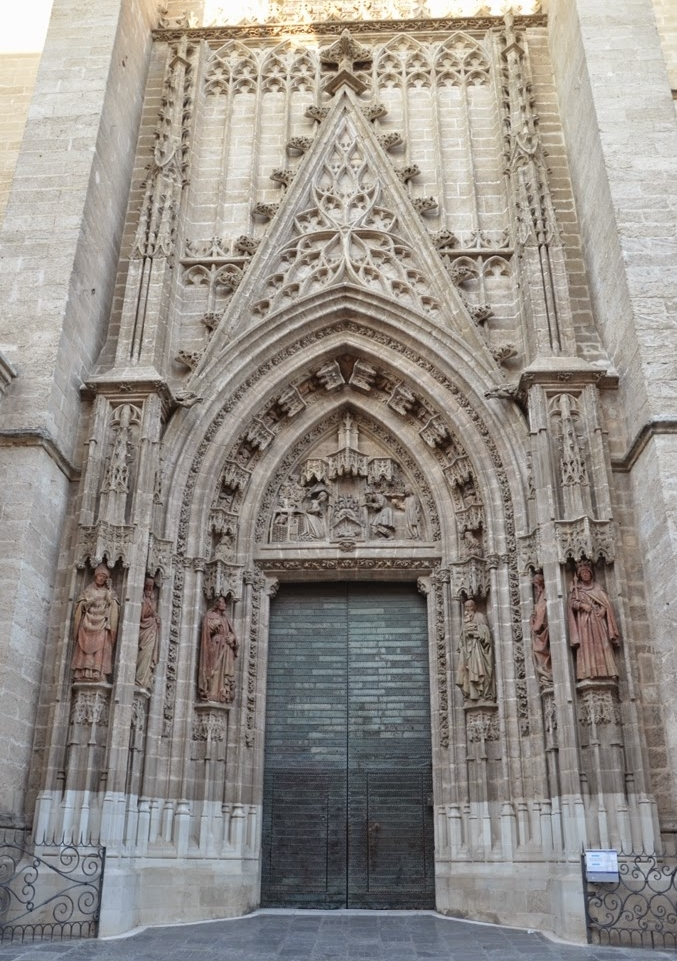arco-apuntado: (185, 279, 492, 563)
